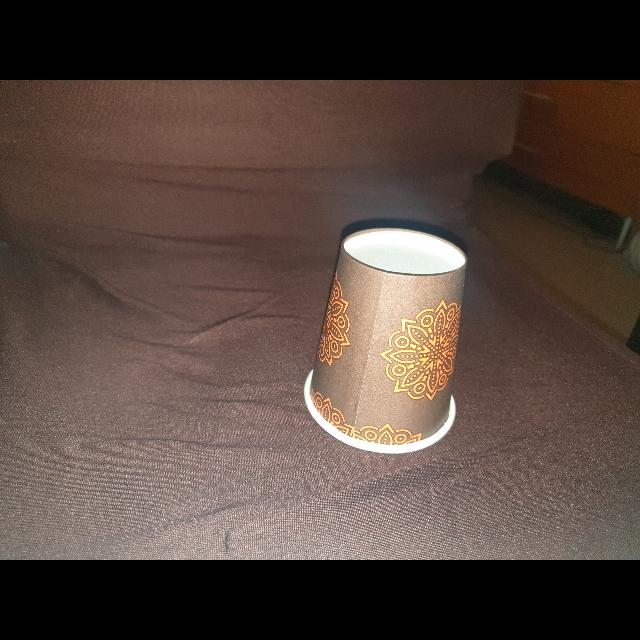trash: (301, 219, 477, 457)
